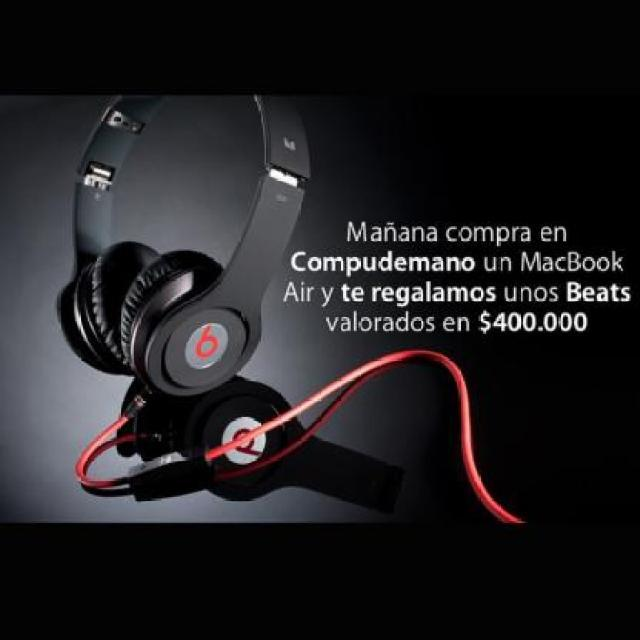earphone: (52, 81, 330, 406)
